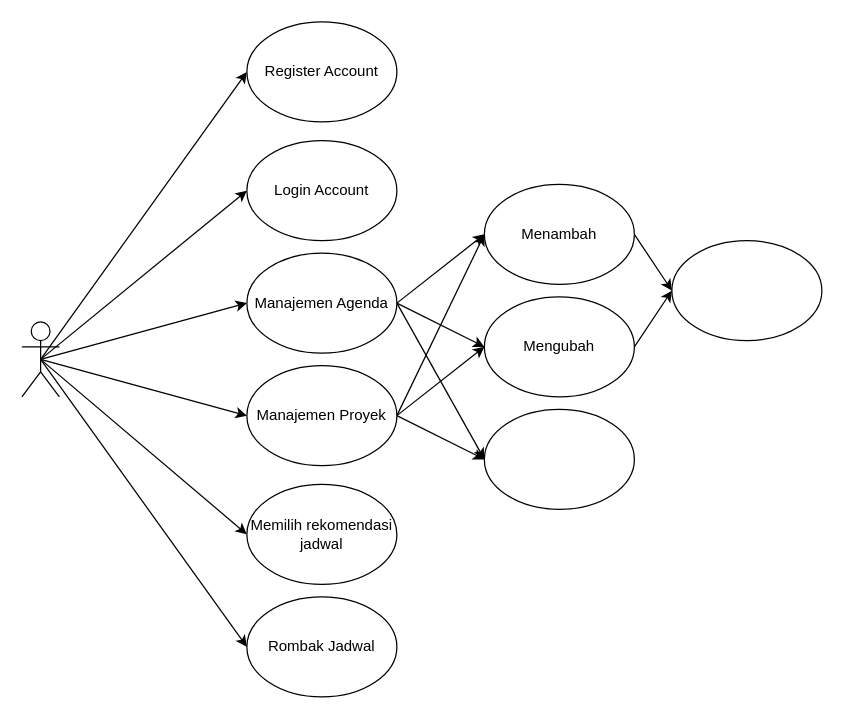
This 844x719 diagram has some shape labels left out. Here are the shapes that lost their labels. From the top down, the centre of each, then its label:
[746,290]: Deteksi konflik
[40,359]: User
[558,458]: Menghapus
